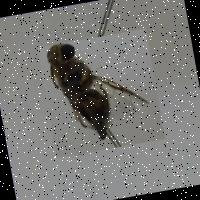Oriental-fruit-fly: (37, 28, 165, 156)
